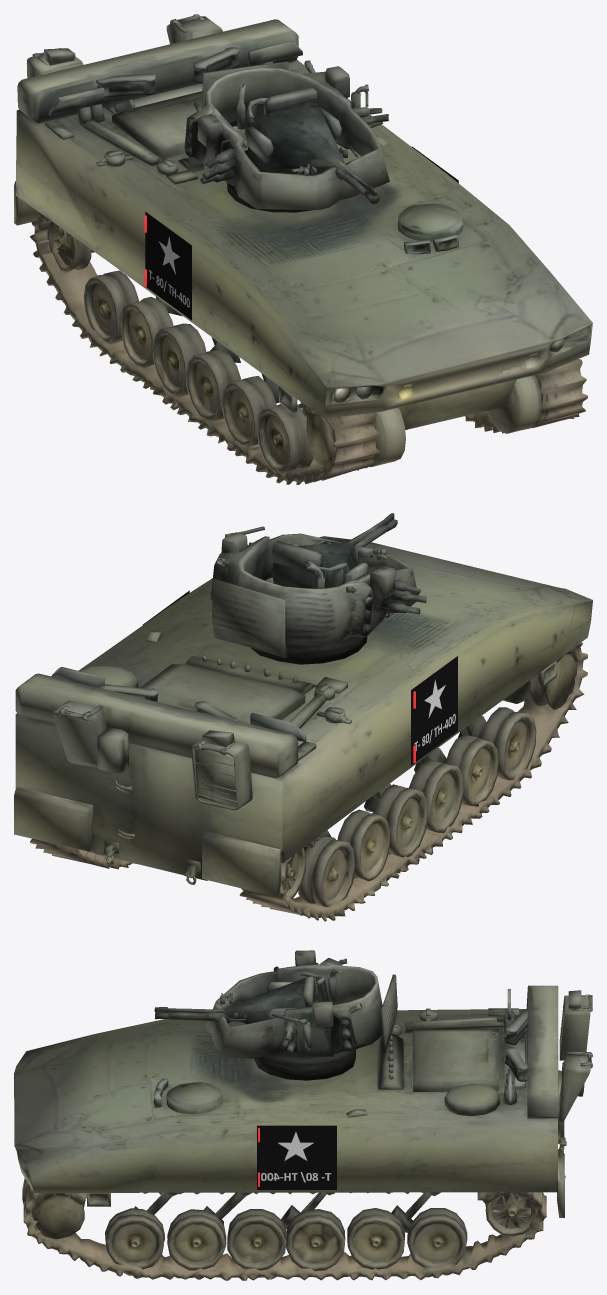
3 views of the same model, one above another, from view 1: azimuth 30°, elevation 25°; view 2: azimuth 150°, elevation 25°; view 3: azimuth 270°, elevation 25° (orthographic). The views are drawn at different scales.
Parts seen in each view (by area): view 1: tripo_node_b858fb1a, tripo_node_b858fb1a.003, Plane.002; view 2: tripo_node_b858fb1a, tripo_node_b858fb1a.003, Plane.002; view 3: tripo_node_b858fb1a, tripo_node_b858fb1a.003, Plane.003.
Part boxes in pixels (<box>): tripo_node_b858fb1a: <box>14,14,592,484</box>; tripo_node_b858fb1a.003: <box>184,60,389,212</box>; Plane.002: <box>144,182,458,320</box>; tripo_node_b858fb1a: <box>14,536,592,921</box>; tripo_node_b858fb1a.003: <box>210,513,426,664</box>; Plane.002: <box>411,656,457,765</box>; tripo_node_b858fb1a: <box>14,985,592,1280</box>; tripo_node_b858fb1a.003: <box>154,950,397,1080</box>; Plane.003: <box>257,1125,336,1189</box>.
Bounding box in the file's own units: 1.36 × 1.37 × 2.93.
3 materials, 2 textured.
